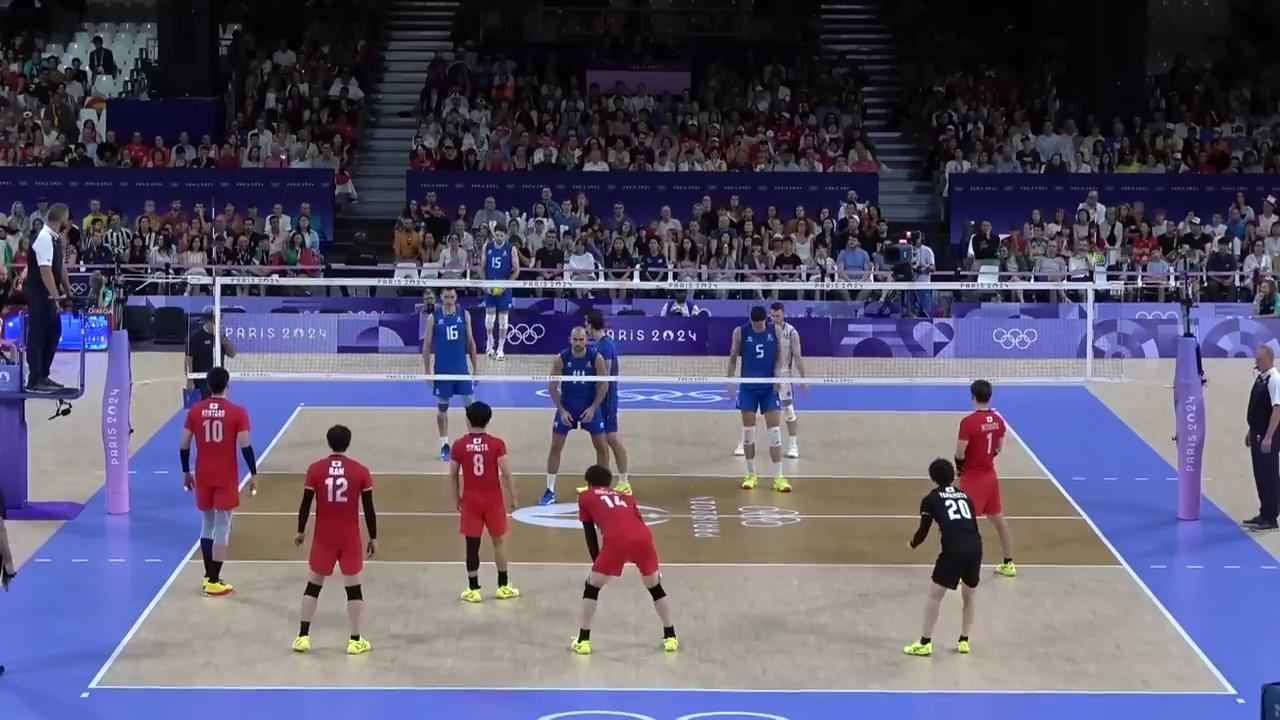ball: (482, 287, 507, 295)
